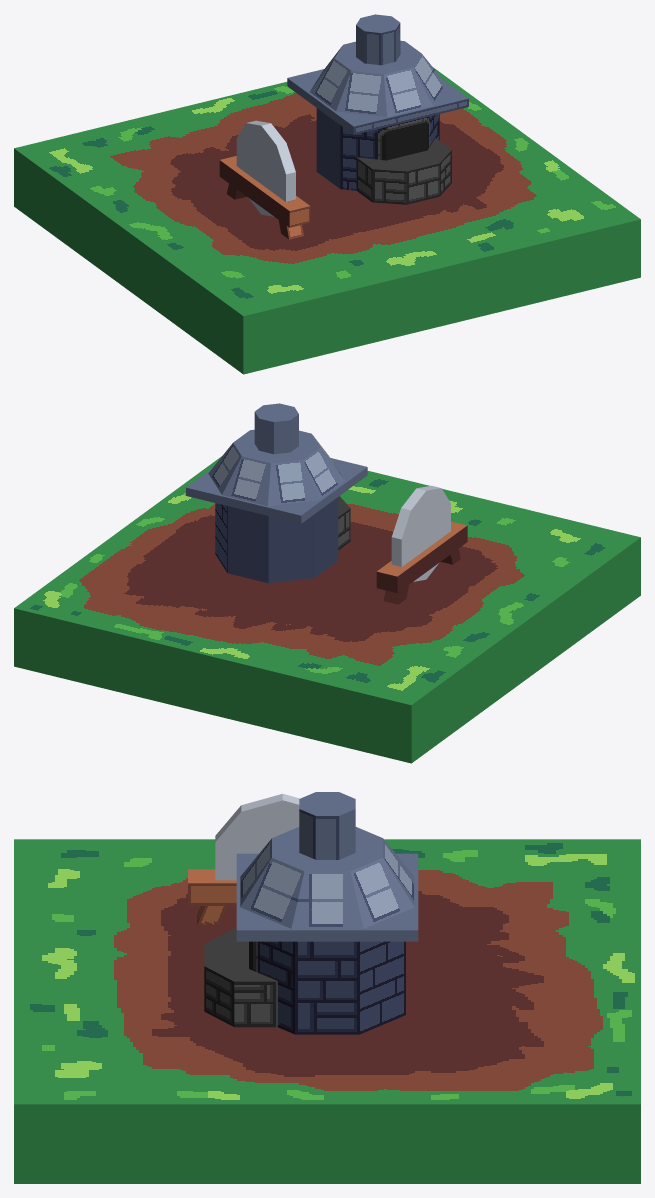
File: SmithingStationBG.gltf
3 views of the same model, one above another, from view 1: azimuth 30°, elevation 25°; view 2: azimuth 150°, elevation 25°; view 3: azimuth 270°, elevation 25° (orthographic). The views are drawn at different scales.
Parts seen in each view (by area): view 1: mesh (×2), cylinder (×3), cone, circle; view 2: mesh (×2), cylinder (×3), cone, circle; view 3: mesh (×2), cylinder (×3), cone, circle.
Boxes of the visible parts, <box> form: mesh (×2): <box>14,67,640,374</box>; cylinder (×3): <box>316,14,451,204</box>; cone: <box>310,40,446,117</box>; circle: <box>219,120,310,239</box>; mesh (×2): <box>14,456,640,763</box>; cylinder (×3): <box>215,403,350,583</box>; cone: <box>208,429,344,506</box>; circle: <box>376,485,467,604</box>; mesh (×2): <box>14,839,640,1183</box>; cylinder (×3): <box>204,792,405,1034</box>; cone: <box>240,827,414,928</box>; circle: <box>188,793,299,924</box>.
Size of the model in its own units: 12.5 by 6.19 by 12.5.
1 material, 1 textured.
